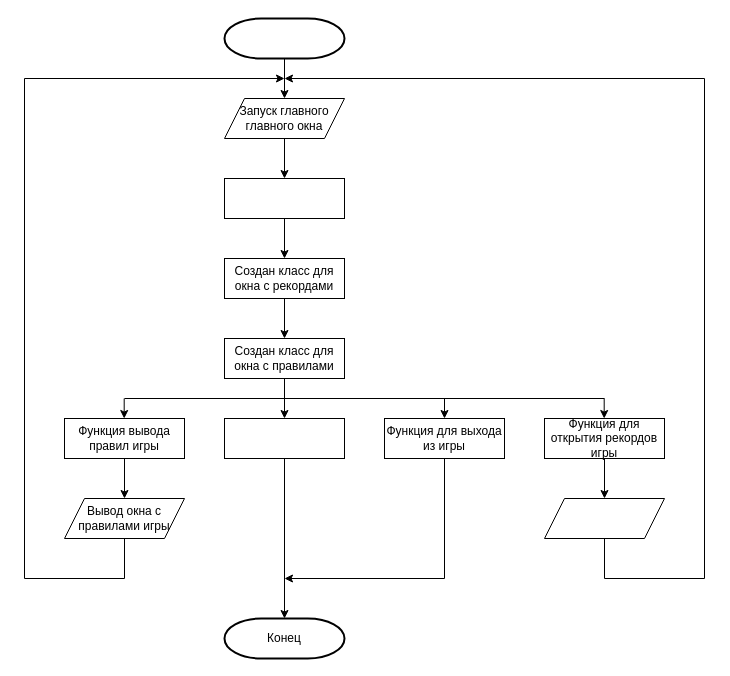
Image size: 730x676. Some labels were removed from this diagram. Here are the shapes that lost their labels. From the top down, the centre of each, then its label:
At (284,38): "Начало".
At (284,198): "Создан класс для главного окна".
At (284,438): "Функция 1".
At (604,518): "Вывод окна с рекордами".
